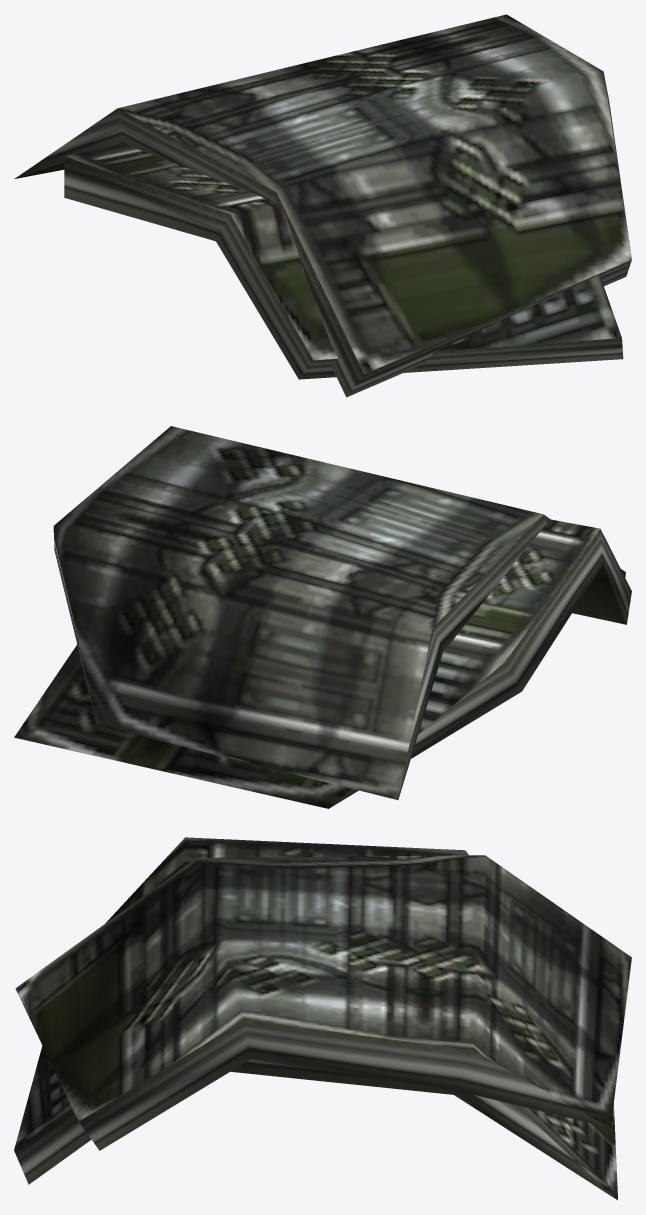
The model's file is ShoulderPads7__FDC.glb.
The picture shows the model from 3 angles, top to bottom: view 1: azimuth 30°, elevation 25°; view 2: azimuth 150°, elevation 25°; view 3: azimuth 270°, elevation 25°; orthographic projection. The views are drawn at different scales.
Parts seen in each view (by area): view 1: ShoulderPads7; view 2: ShoulderPads7; view 3: ShoulderPads7.
Part boxes in pixels (x1,y1,x2,y2): ShoulderPads7: [15, 14, 631, 397]; ShoulderPads7: [14, 426, 631, 808]; ShoulderPads7: [14, 837, 631, 1200].
Size of the model in its own units: 10.11 by 4.05 by 10.94.
Materials: 1 (1 with a texture image).
